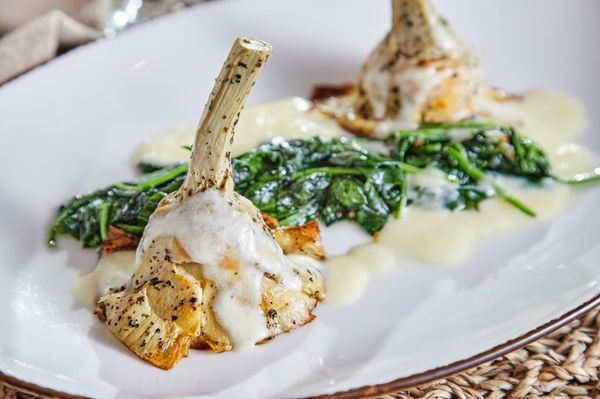curry: (46, 160, 190, 252)
